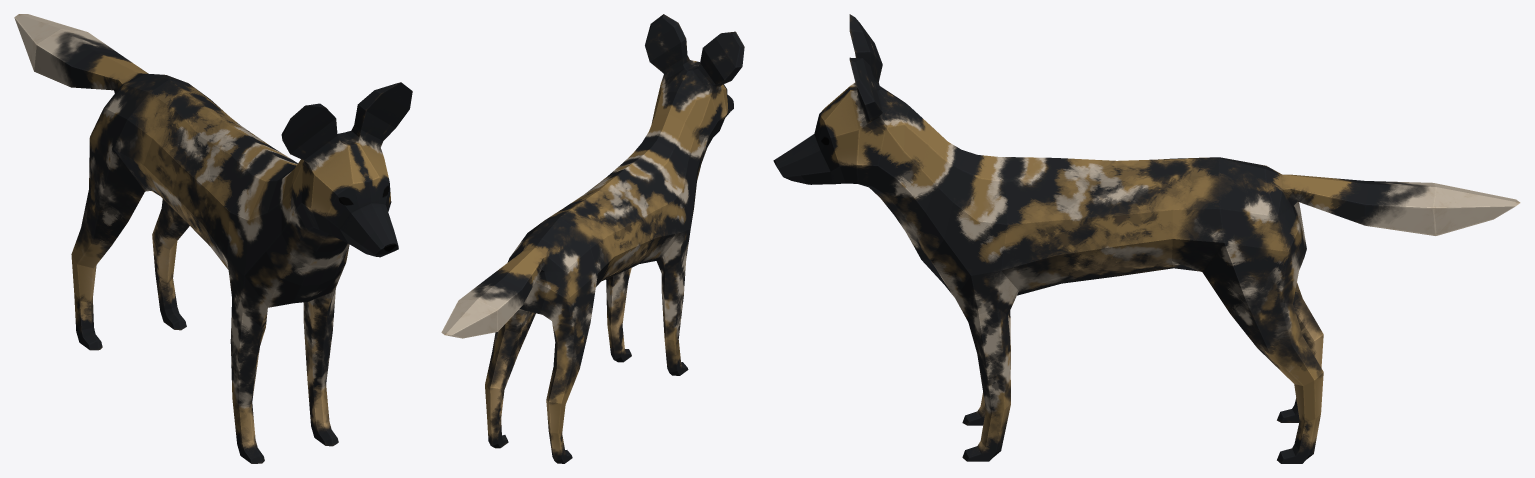
File: African wild dog.glb
3 renders of one model, left to right at view 1: azimuth 30°, elevation 25°; view 2: azimuth 150°, elevation 25°; view 3: azimuth 270°, elevation 25°, orthographic. The views are drawn at different scales.
Parts seen in each view (by area): view 1: AfricanWildDog_mesh; view 2: AfricanWildDog_mesh; view 3: AfricanWildDog_mesh.
Boxes of the visible parts, box(x1,y1,x2,y2) form: AfricanWildDog_mesh: box(14, 14, 412, 463); AfricanWildDog_mesh: box(441, 14, 744, 463); AfricanWildDog_mesh: box(773, 14, 1520, 463).
Bounding box in the file's own units: 1.17 × 3.51 × 5.9.
1 material, 1 textured.
